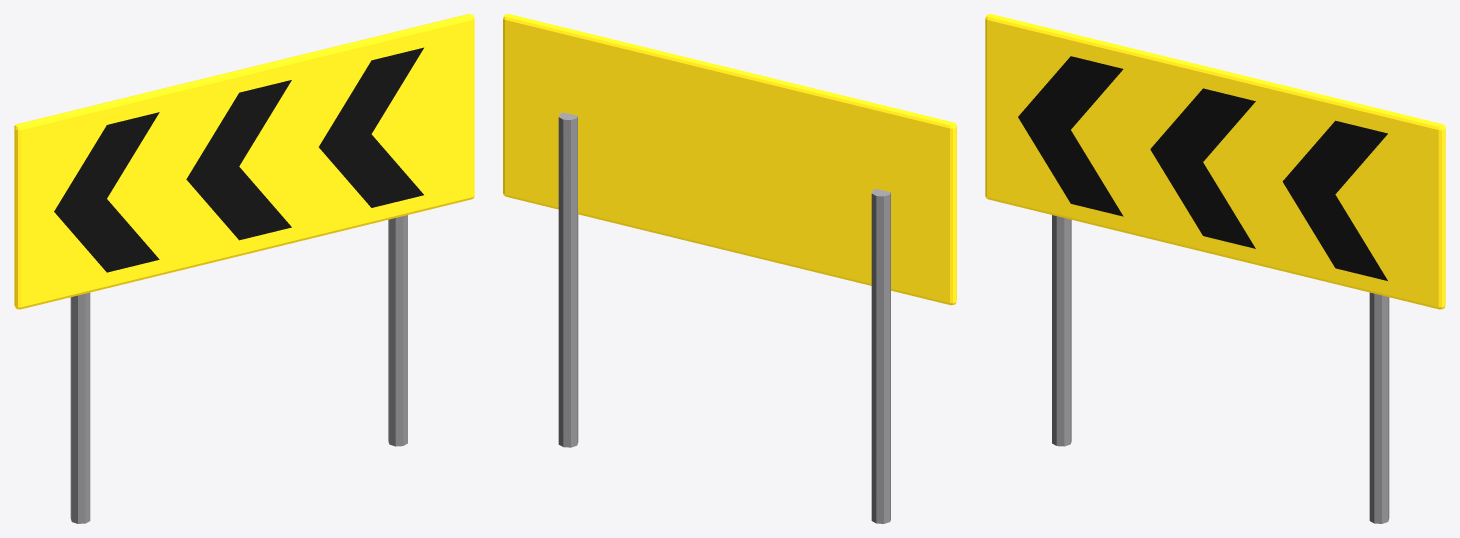
File: chevL.glb
3 renders of one model, left to right at view 1: azimuth 30°, elevation 25°; view 2: azimuth 150°, elevation 25°; view 3: azimuth 330°, elevation 25°, orthographic.
Visible parts, largest first — view 1: board, chev, posts; view 2: board, posts; view 3: board, chev, posts.
Part boxes in pixels (bbox=[...]): board: bbox=[14, 14, 474, 309]; chev: bbox=[54, 47, 423, 272]; posts: bbox=[70, 215, 407, 523]; board: bbox=[503, 14, 956, 305]; posts: bbox=[558, 112, 890, 523]; board: bbox=[985, 14, 1445, 309]; chev: bbox=[1018, 56, 1387, 280]; posts: bbox=[1052, 215, 1389, 523].
Bounding box in the file's own units: 2.6 × 2.25 × 0.135.
